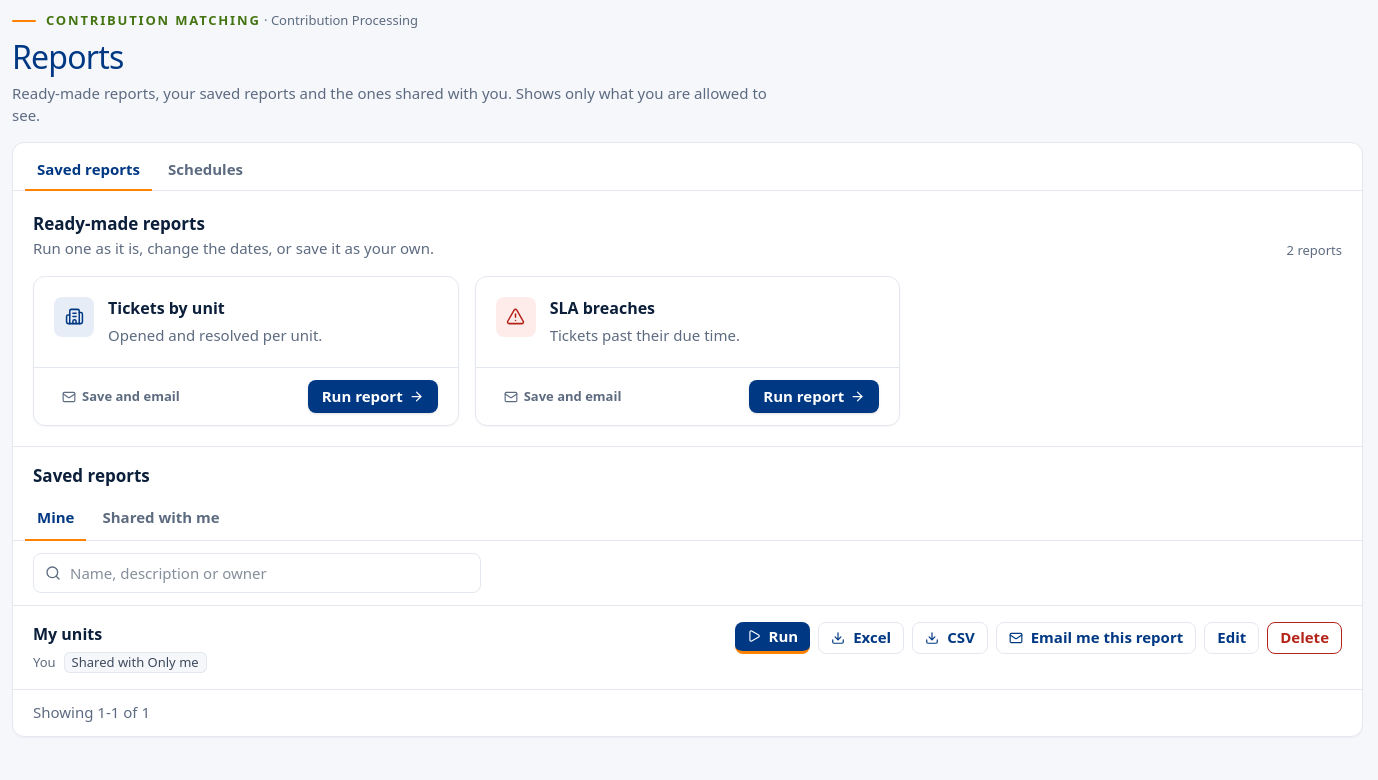
Scenario: Reports: saved reports › downloads a saved report as Excel
The image size is (1378, 780).
Step 1. Click the button with aria-label "Download My units as Excel" → (861, 638), box [818,622,904,654]
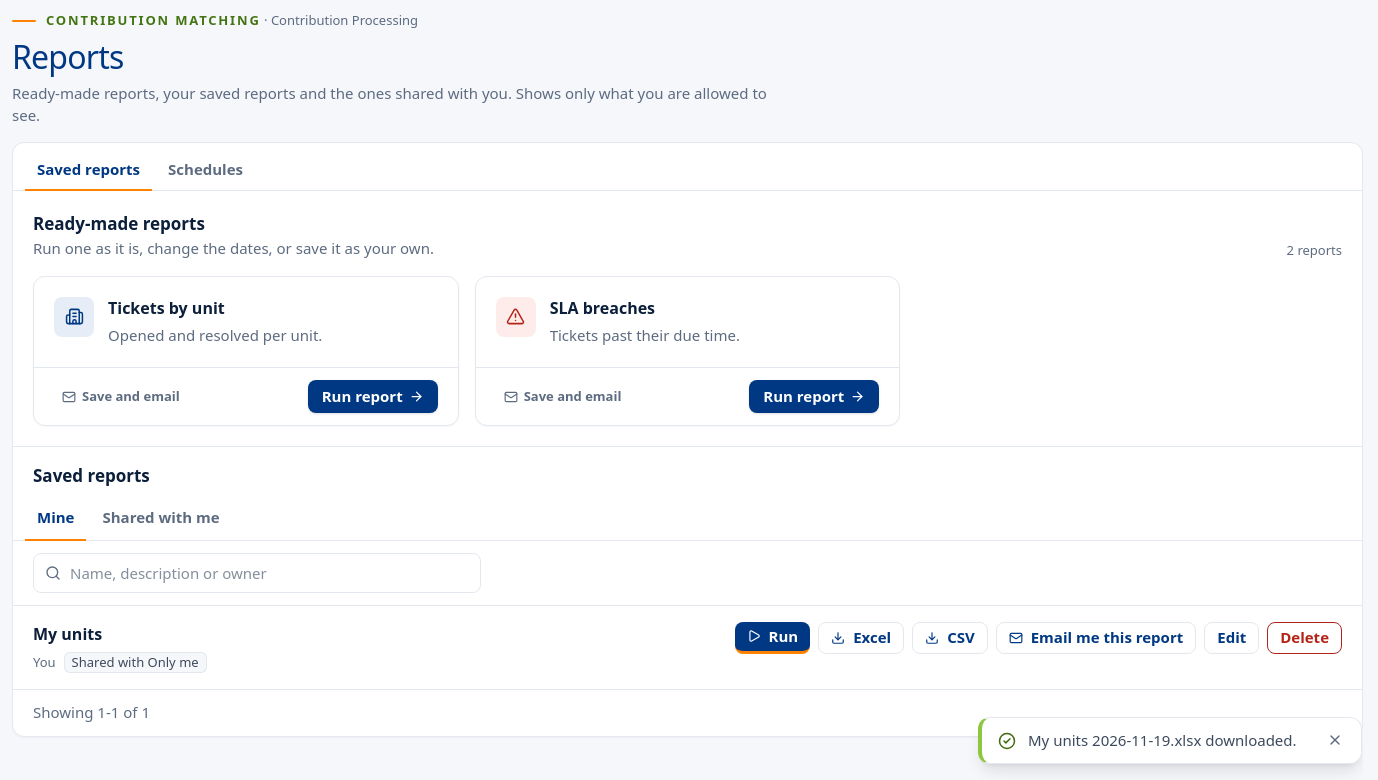
Now the text "My units 2026-11-19.xlsx downloaded." is shown, box [1028,730,1313,751]
